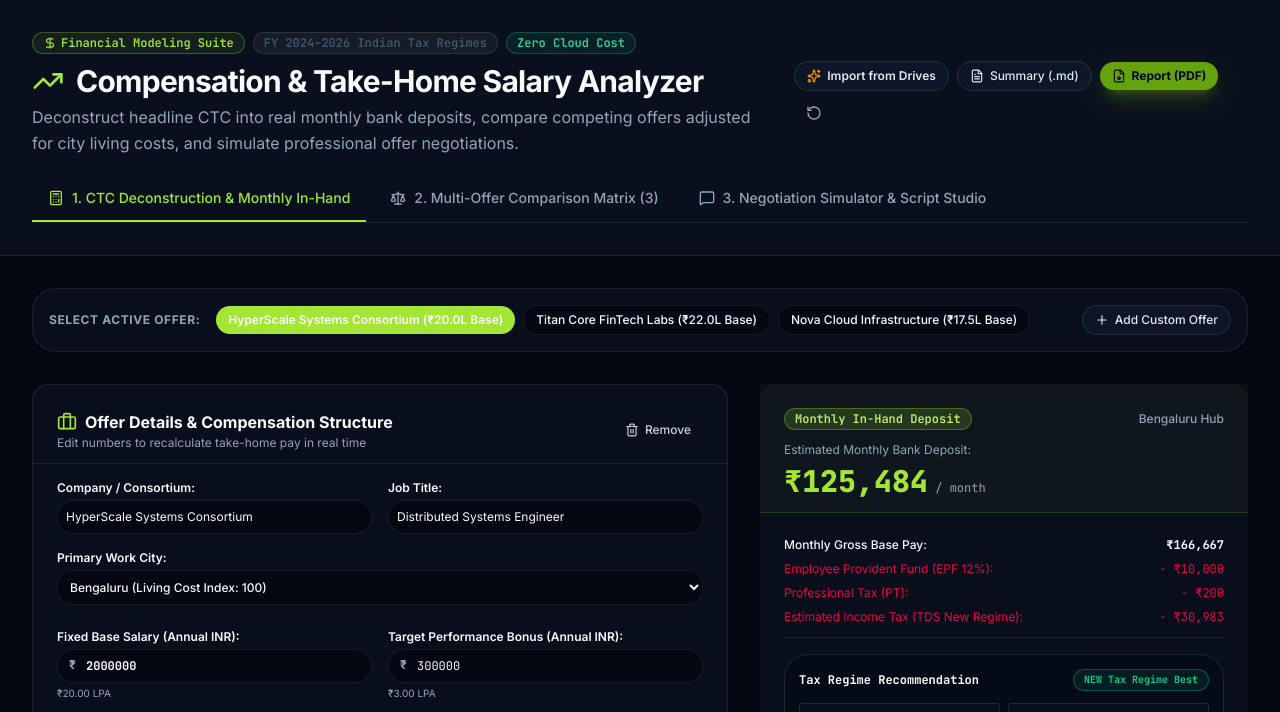
CompensationAnalyzerPage › adds a new custom offer and allows removing offers
Step 1. Click the button "Add Custom Offer" → (1156, 320), box [1082,305,1231,335]
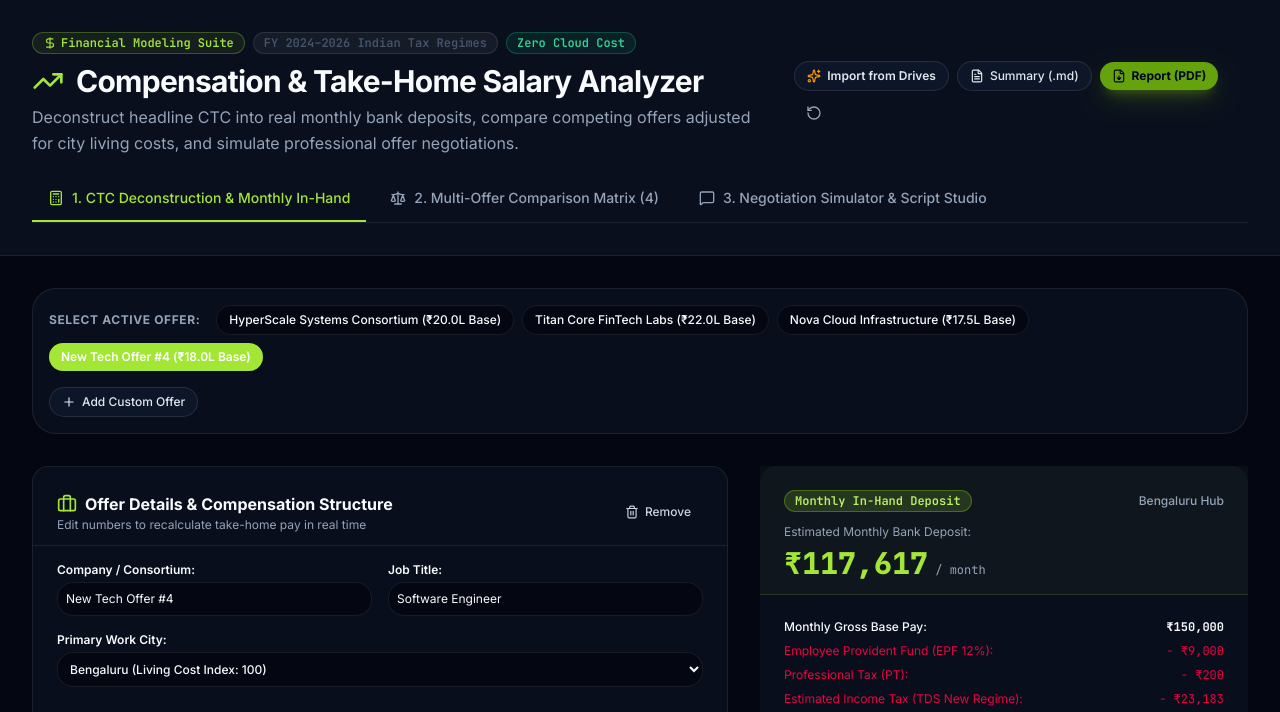
Now the button "New Tech Offer #4 (₹18.0L Base)" is shown, box [49,343,263,371]
Note: Remove active package
Step 2. Click the button "Remove" → (658, 512), box [613,498,703,526]
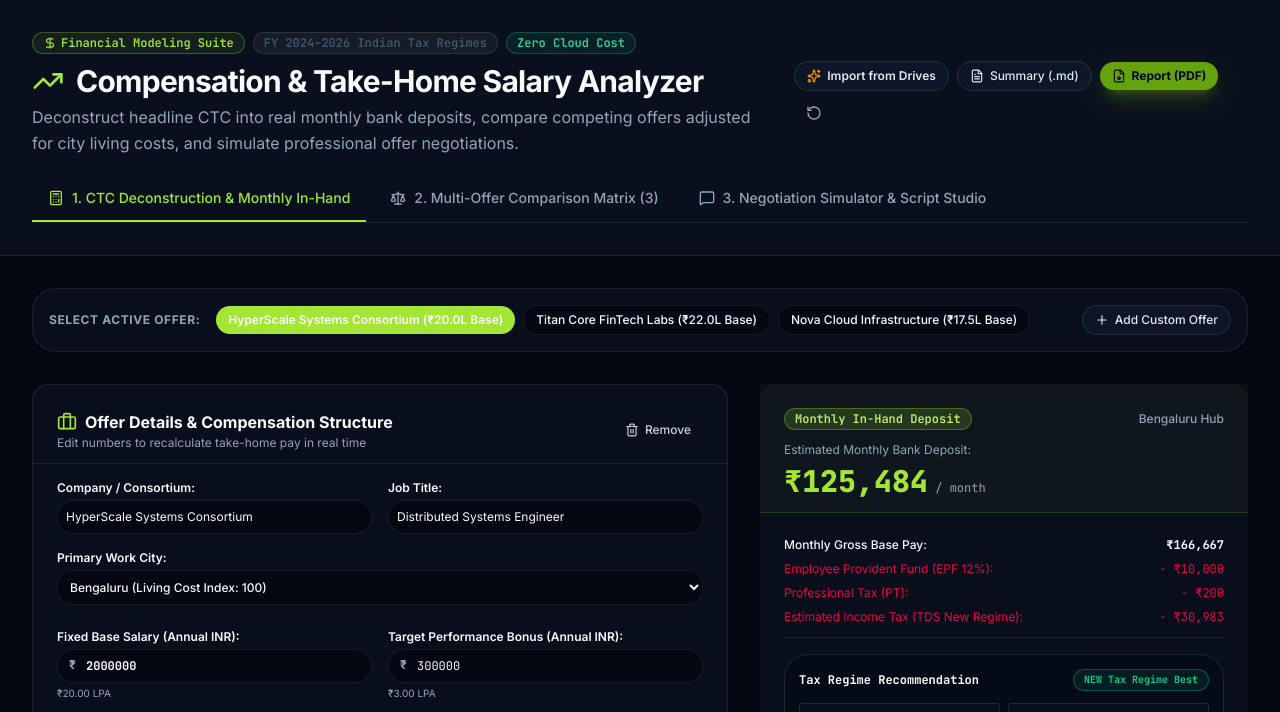
Now the button "New Tech Offer #4" is gone
